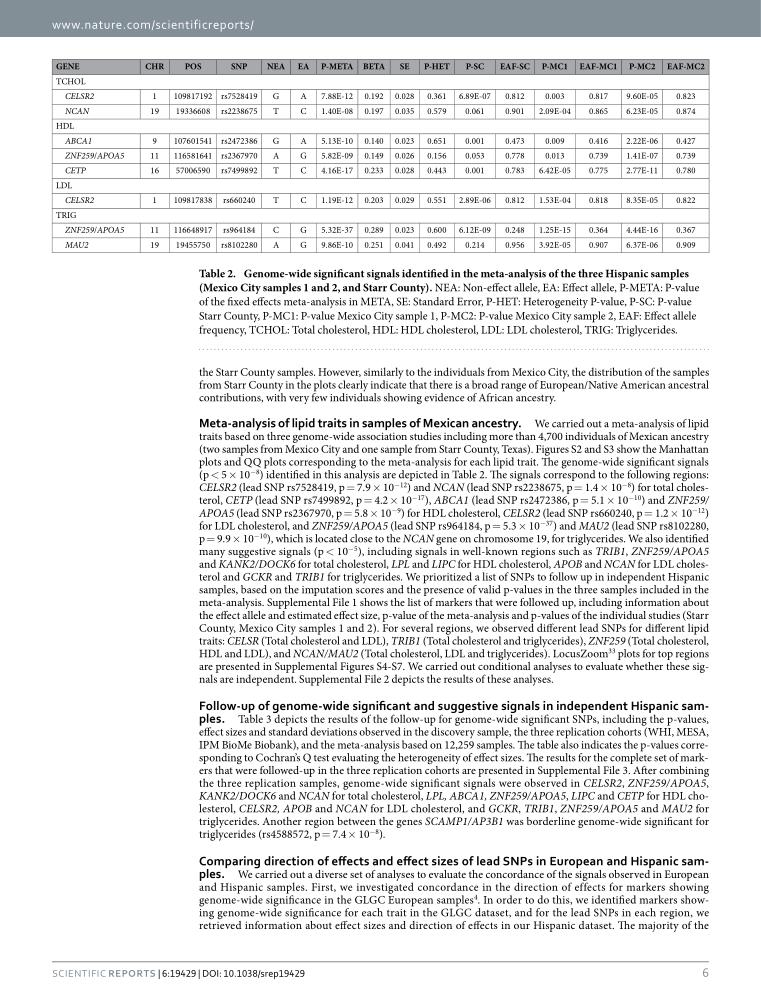table: (55, 60, 703, 250)
